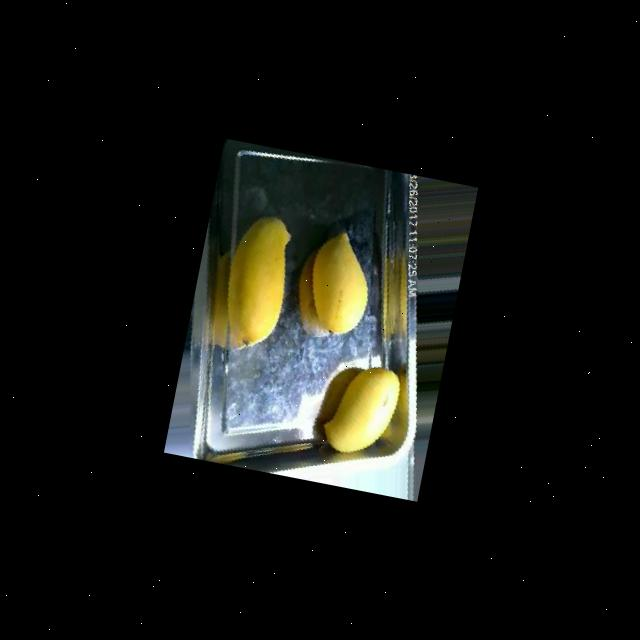Mango: (214, 210, 298, 356), (300, 226, 380, 339), (317, 358, 403, 462)
